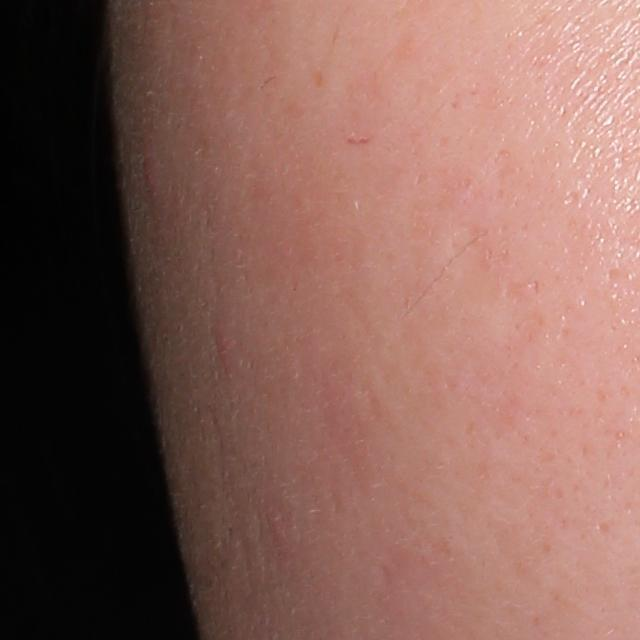papule: (213, 324, 234, 366), (142, 148, 162, 192)
